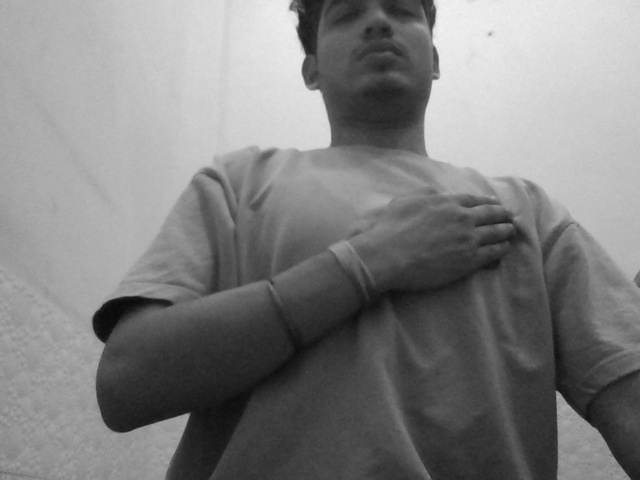Sorry: (315, 158, 557, 344)
